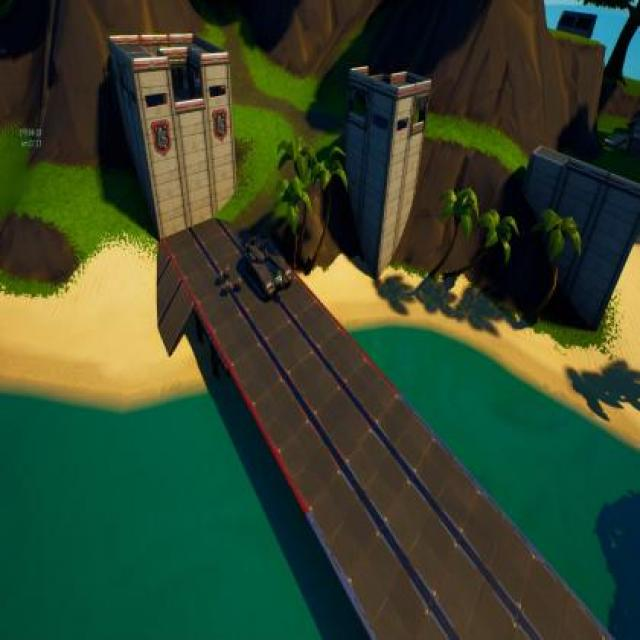tank: (243, 230, 292, 300)
